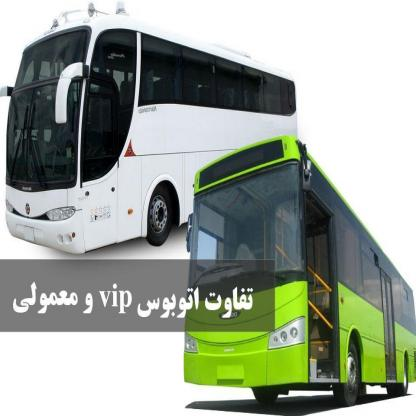Bus: (0, 0, 300, 265), (176, 137, 416, 410)
